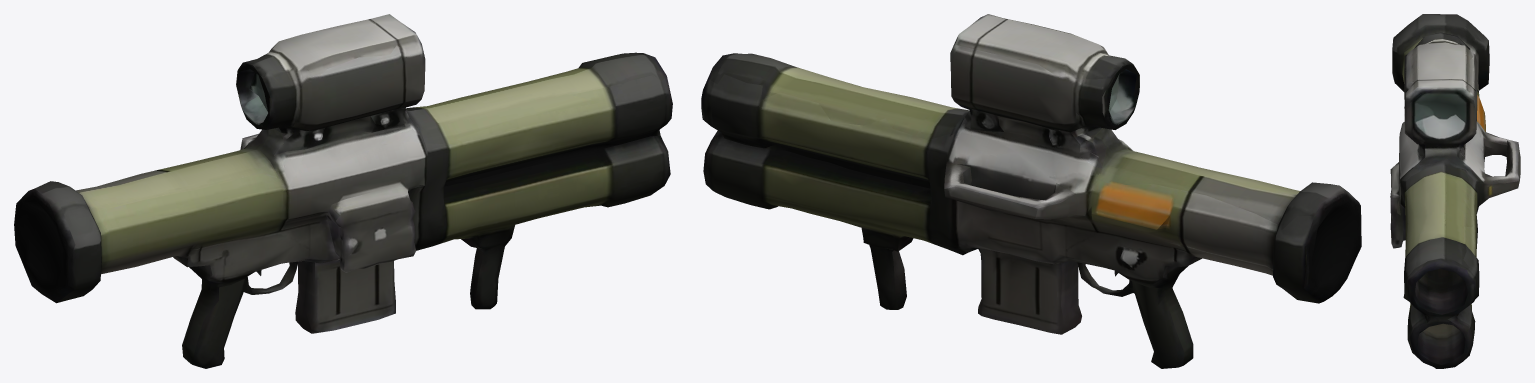
File: rocketlauncher.glb
3 views of the same model, side by side, from view 1: azimuth 30°, elevation 25°; view 2: azimuth 150°, elevation 25°; view 3: azimuth 270°, elevation 25° (orthographic). The views are drawn at different scales.
Parts seen in each view (by area): view 1: RocketLauncher; view 2: RocketLauncher; view 3: RocketLauncher.
Boxes of the visible parts, x1=… form: RocketLauncher: x1=14, y1=14, x2=672, y2=368; RocketLauncher: x1=701, y1=14, x2=1361, y2=368; RocketLauncher: x1=1390, y1=14, x2=1520, y2=368.
Bounding box in the file's own units: 0.9 × 0.4278 × 0.203.
1 material, 1 textured.
